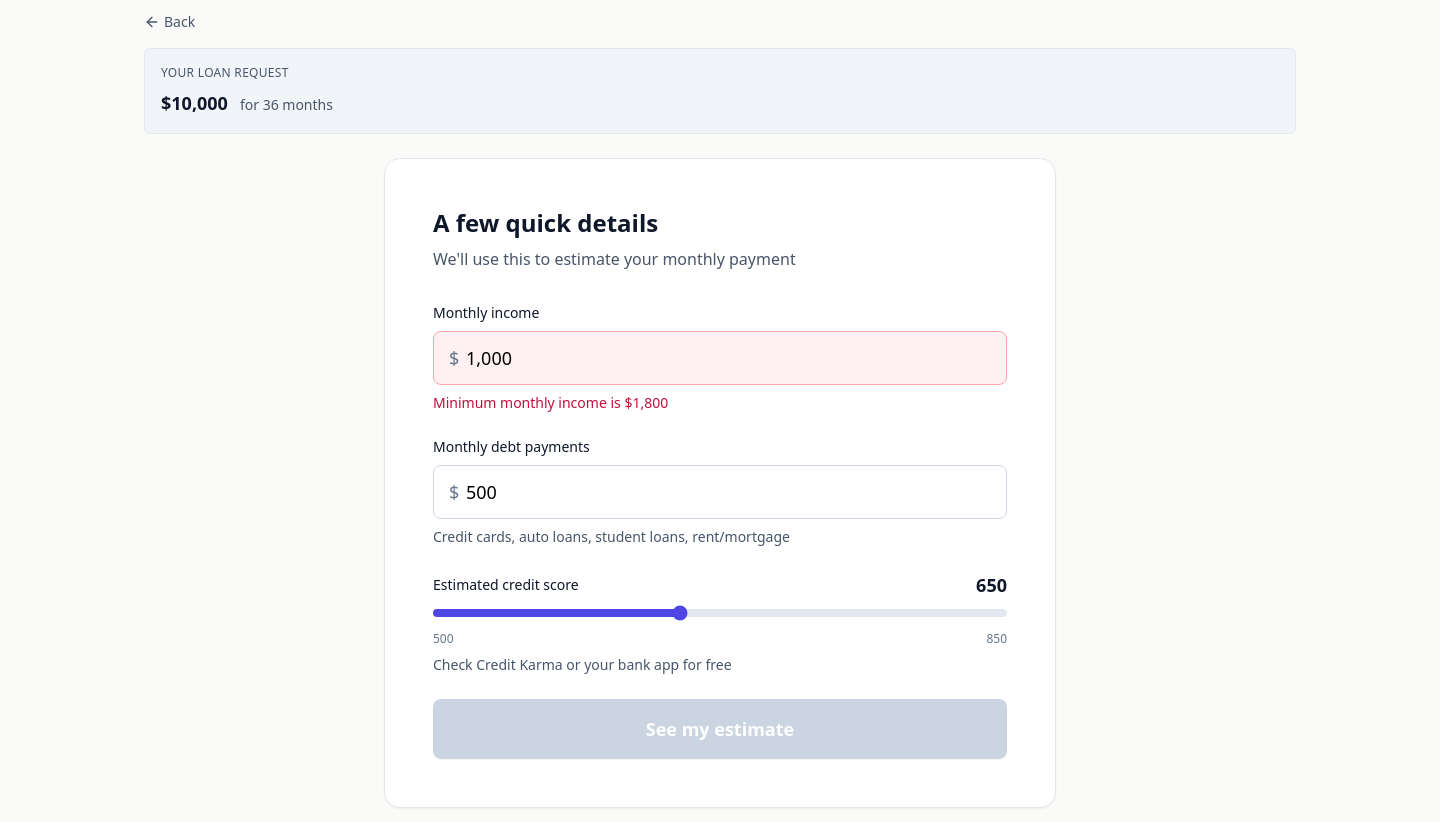
Test: FinancialDetailsStep - Validation (Task 4.3) › Real-time validation feedback › clears validation error when income changes to valid value
Expected: the text "Minimum monthly income is $1,800" is shown, [433,393,668,412]
Replace the text in the field labelled "Monthly income" with "5000": (720, 358) [433,331,1007,385]
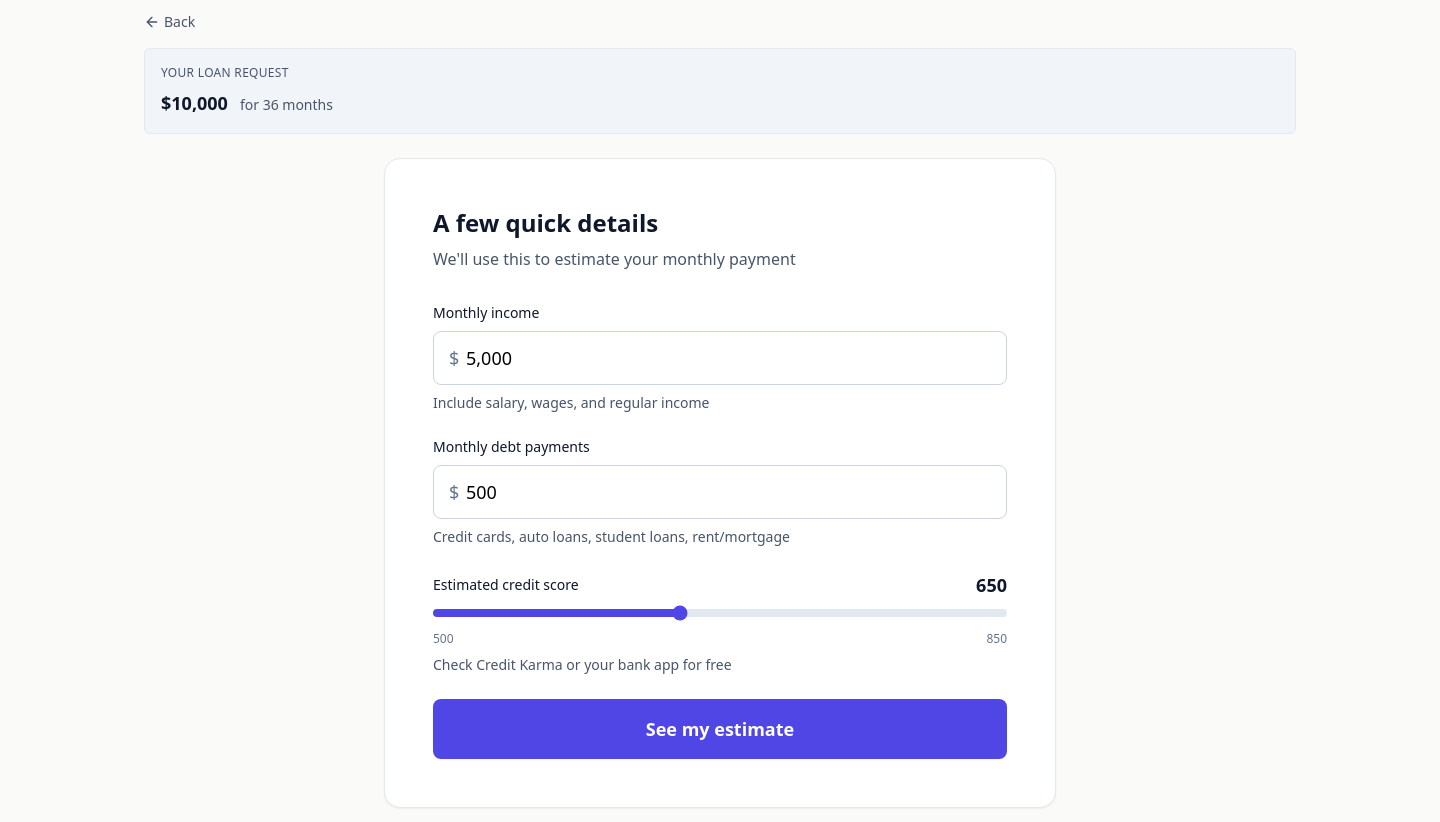
Now the text "Minimum monthly income is $1,800" is gone
